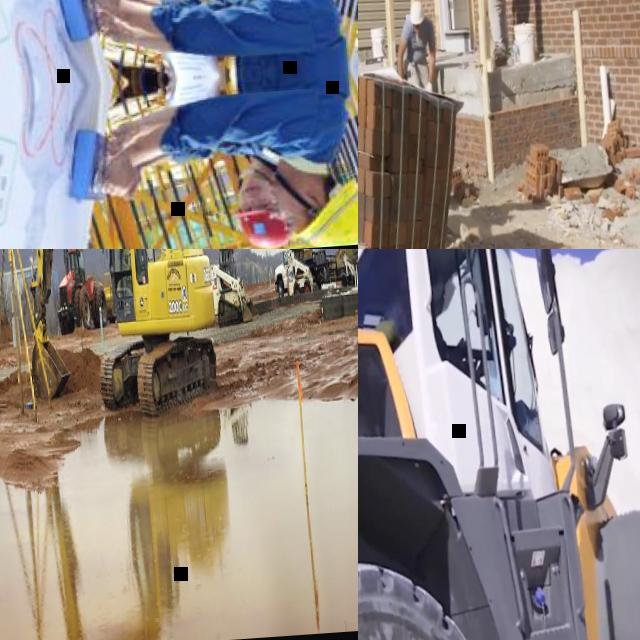Hardhat: (291, 176, 358, 248), (234, 205, 292, 249), (407, 0, 424, 22)
NO-Mask: (266, 167, 313, 204), (234, 174, 272, 202), (414, 28, 422, 38)
NO-Safety Vest: (242, 51, 358, 159), (242, 0, 349, 87), (405, 19, 433, 69)
Person: (83, 66, 358, 249), (106, 80, 296, 249), (82, 0, 358, 62), (88, 0, 277, 54), (393, 0, 440, 96), (426, 284, 465, 362), (478, 0, 514, 63)
machinery: (358, 249, 640, 640), (11, 249, 223, 416), (52, 249, 115, 331), (208, 249, 259, 325), (271, 249, 338, 292), (284, 249, 314, 294)
